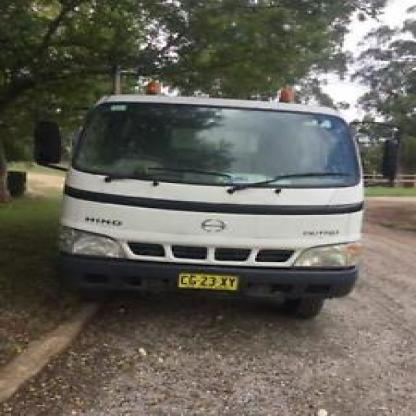dump_truck: (41, 66, 414, 319)
